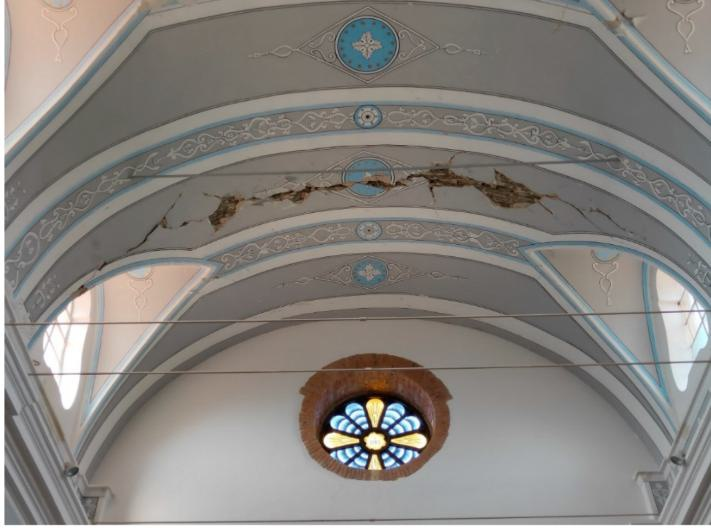crack: (431, 155, 557, 219), (132, 185, 284, 229), (307, 171, 407, 208), (582, 199, 627, 237)
